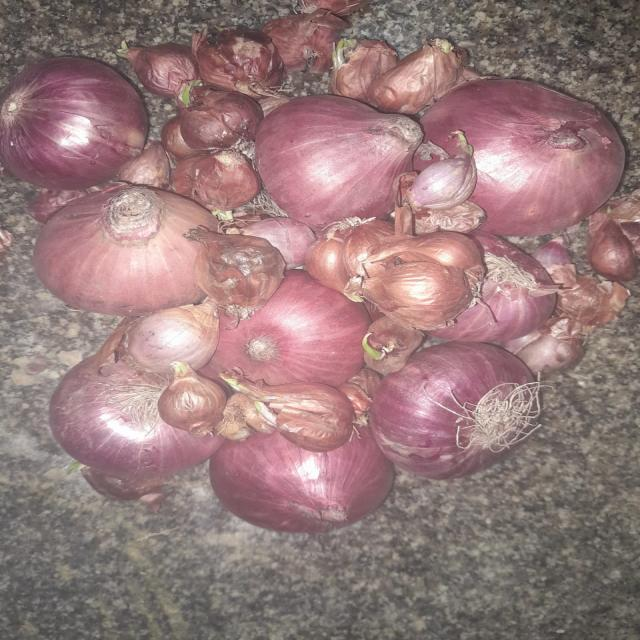sprouting: (353, 330, 401, 370), (215, 362, 263, 394)
